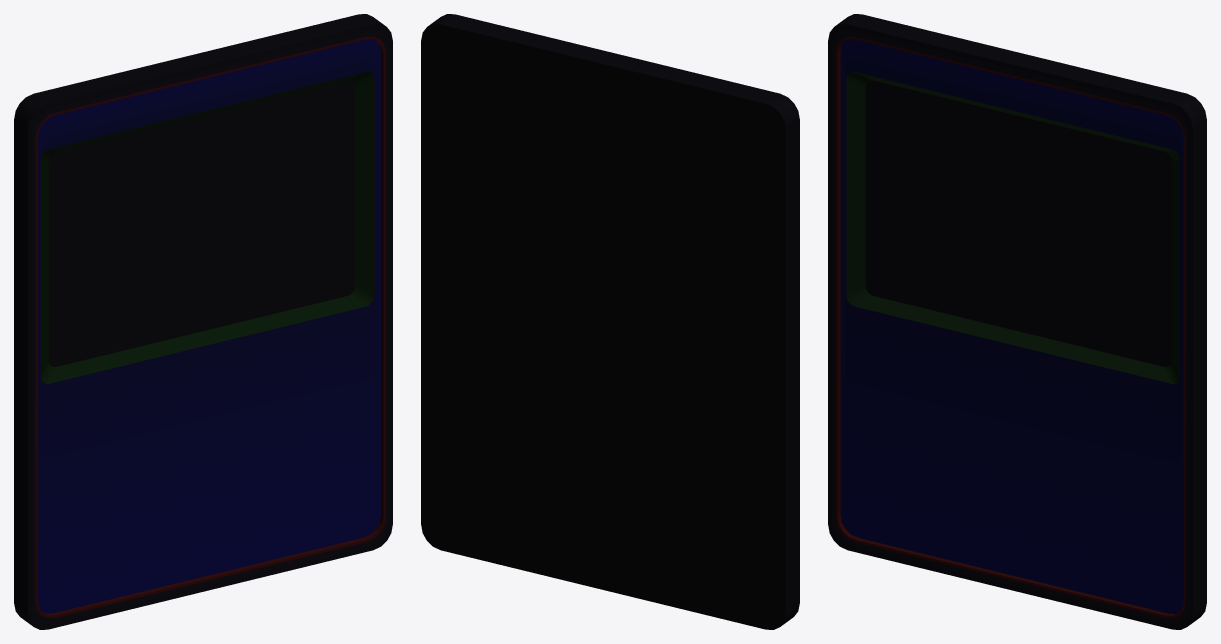
File: actionCard.fbx
The picture shows the model from 3 angles, left to right: view 1: azimuth 30°, elevation 25°; view 2: azimuth 150°, elevation 25°; view 3: azimuth 330°, elevation 25°; orthographic projection.
Visible parts, largest first — view 1: svgMesh1; view 2: svgMesh1; view 3: svgMesh1.
Part boxes in pixels (x1,y1,x2,y2): svgMesh1: (14, 14, 392, 629); svgMesh1: (421, 14, 799, 629); svgMesh1: (828, 14, 1206, 629).
Bounding box in the file's own units: 7.26 × 10 × 0.4791.
